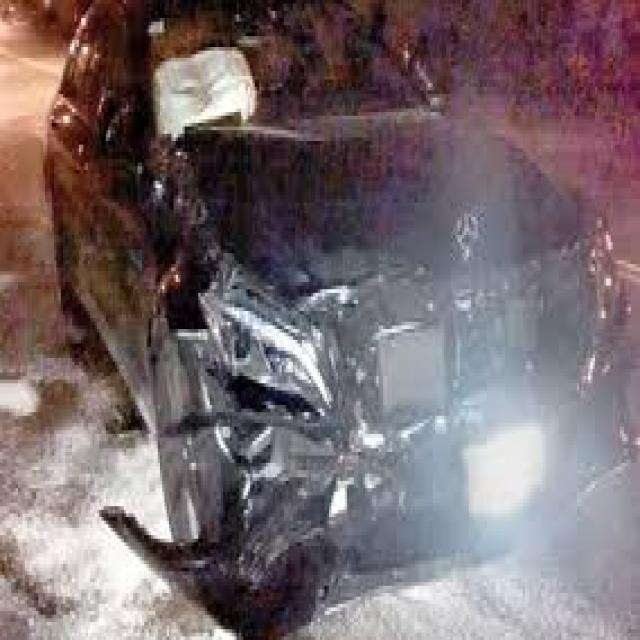moderate: (119, 152, 358, 608), (389, 245, 620, 490)
